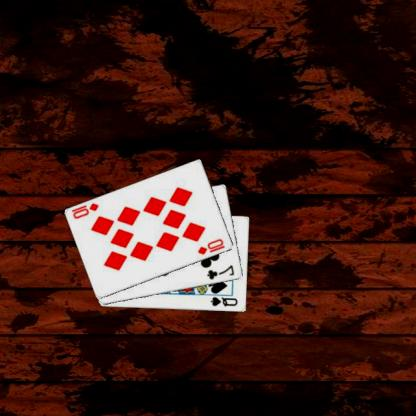10D: (70, 200, 102, 221), (197, 236, 228, 256)
7C: (207, 262, 238, 282)
QS: (210, 294, 241, 309)
